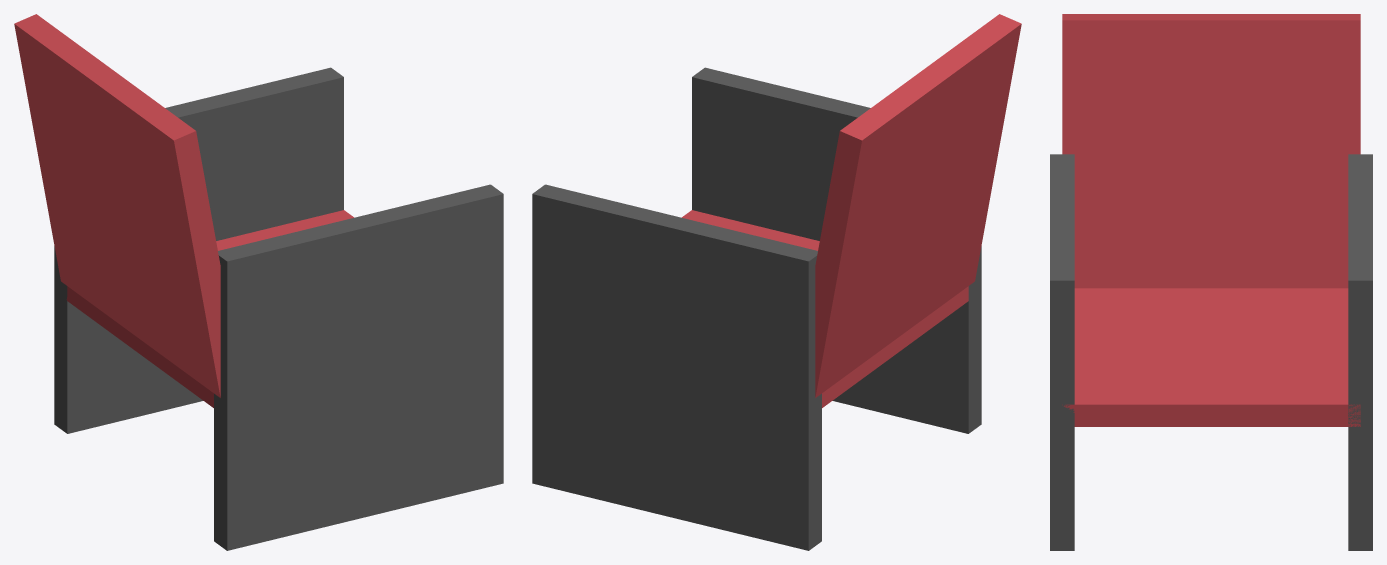
Rendered from chair.dae.
The picture shows the model from 3 angles, left to right: view 1: azimuth 30°, elevation 25°; view 2: azimuth 150°, elevation 25°; view 3: azimuth 270°, elevation 25°; orthographic projection. The views are drawn at different scales.
Parts seen in each view (by area): view 1: Cube_002, Cube, Cube_003, Cube_001; view 2: Cube_003, Cube, Cube_002, Cube_001; view 3: Cube, Cube_001, Cube_003, Cube_002.
Boxes of the visible parts, x1,y1,x2,y2 form: Cube_002: (214,184,503,550); Cube: (14,14,220,397); Cube_003: (54,67,343,433); Cube_001: (66,210,353,407); Cube_003: (532,184,821,550); Cube: (815,14,1021,397); Cube_002: (692,67,981,433); Cube_001: (682,210,968,407); Cube: (1062,14,1360,288); Cube_001: (1062,288,1360,426); Cube_003: (1348,154,1372,550); Cube_002: (1050,154,1074,550).
Size of the model in its own units: 2.34 by 2.16 by 2.91.
